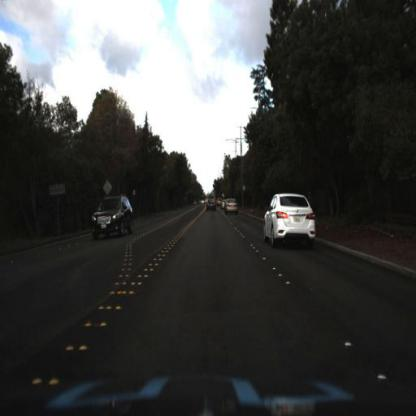car: (264, 193, 317, 253), (89, 194, 132, 240), (225, 199, 239, 222), (206, 198, 219, 213)
